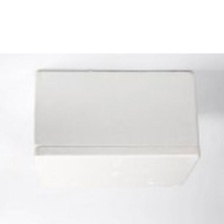foam_box: (25, 64, 207, 198)
